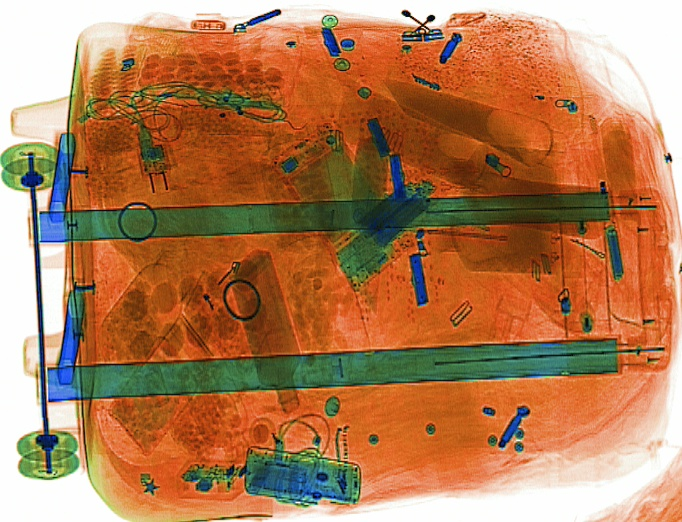powerbank: (352, 167, 445, 252)
